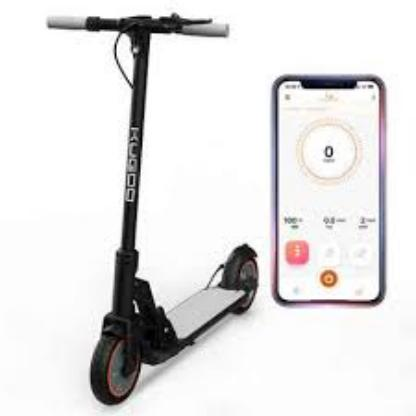bike: (89, 244, 260, 407)
